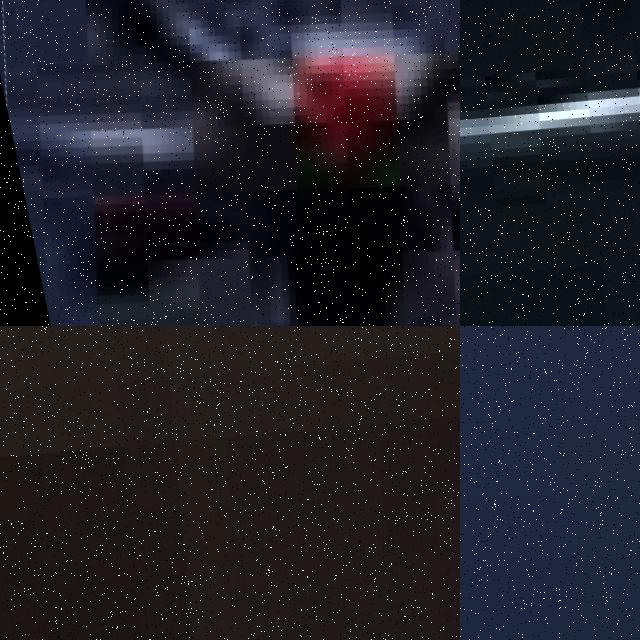drone: (0, 0, 460, 326)
